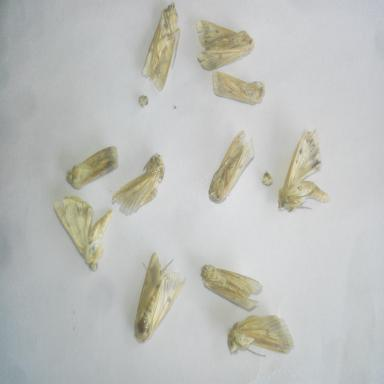abw: (131, 248, 189, 347), (51, 191, 116, 278), (274, 124, 333, 218), (202, 126, 260, 208), (193, 11, 259, 81), (140, 0, 187, 95), (110, 146, 169, 220), (225, 305, 298, 361), (198, 259, 268, 315), (62, 140, 123, 194), (208, 67, 270, 114)
